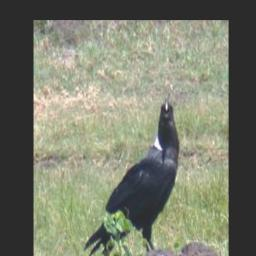Crow: (82, 98, 181, 256)
